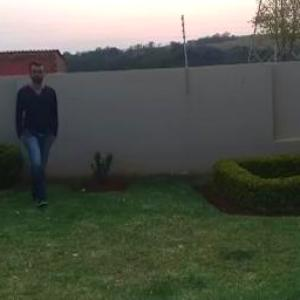follow: (15, 63, 72, 190)
